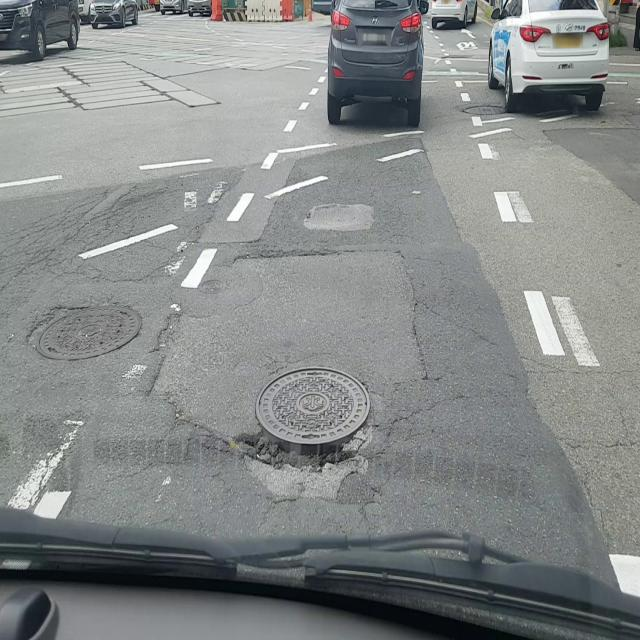Pothole: (232, 364, 372, 474)
